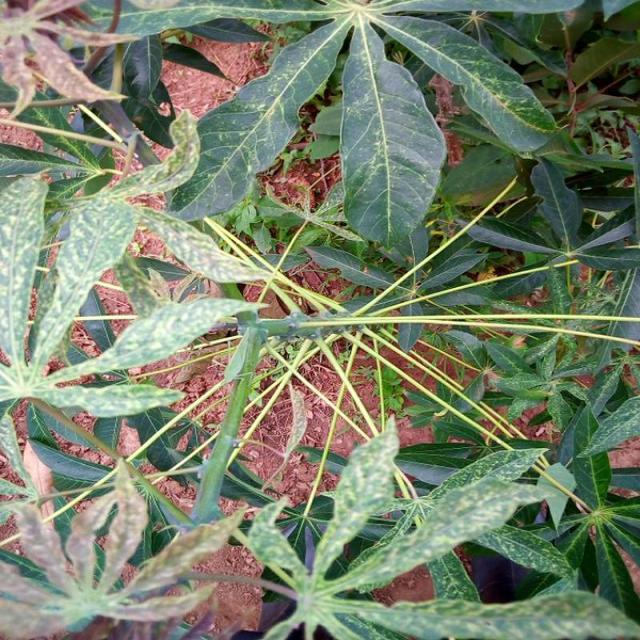cassava leaf: (338, 15, 448, 258)
